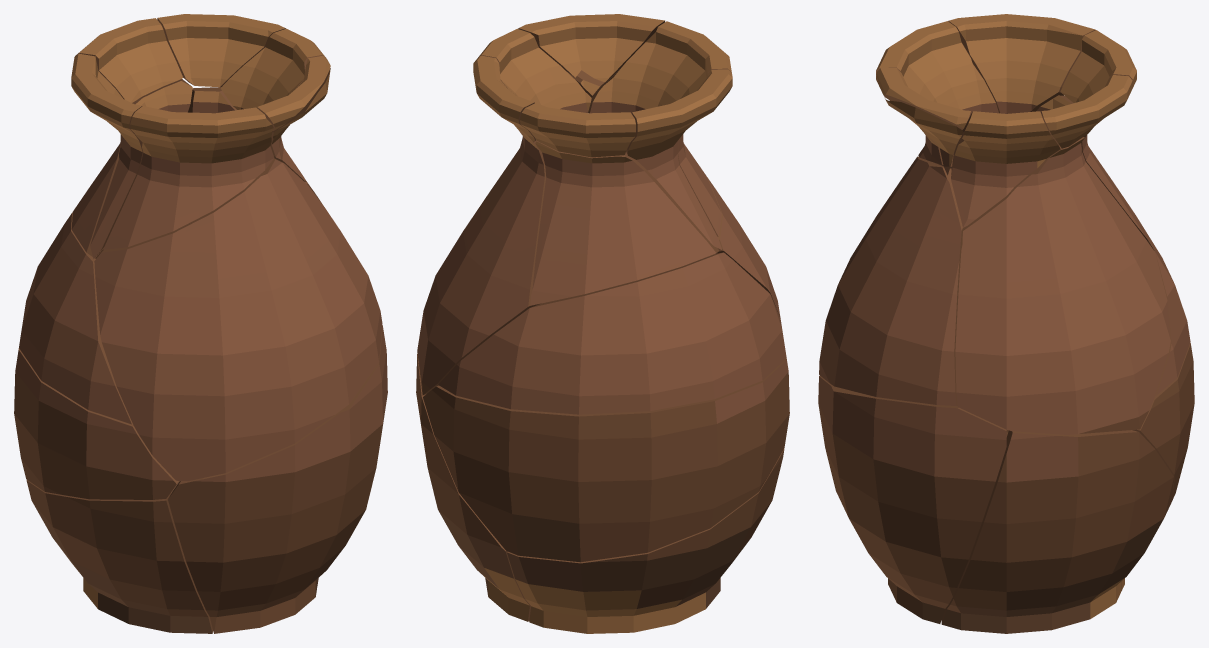
File: fractured_vase_004.glb
3 renders of one model, left to right at view 1: azimuth 30°, elevation 25°; view 2: azimuth 150°, elevation 25°; view 3: azimuth 270°, elevation 25°, orthographic.
Visible parts, largest first — view 1: VaseF.004_cell; view 2: VaseF.004_cell; view 3: VaseF.004_cell.
Boxes of the visible parts, x1=… form: VaseF.004_cell: x1=14, y1=14, x2=387, y2=633; VaseF.004_cell: x1=416, y1=14, x2=789, y2=633; VaseF.004_cell: x1=818, y1=14, x2=1194, y2=633.
Size of the model in its own units: 0.1652 by 0.25 by 0.1652.
